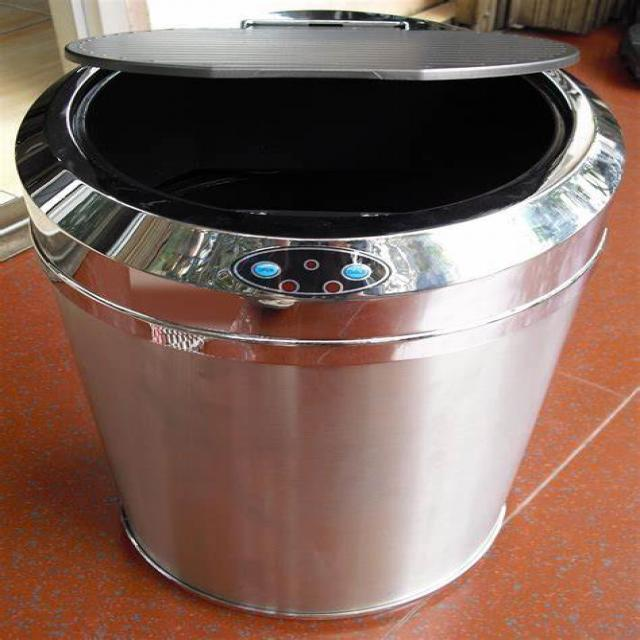garbage container: (16, 4, 638, 623)
